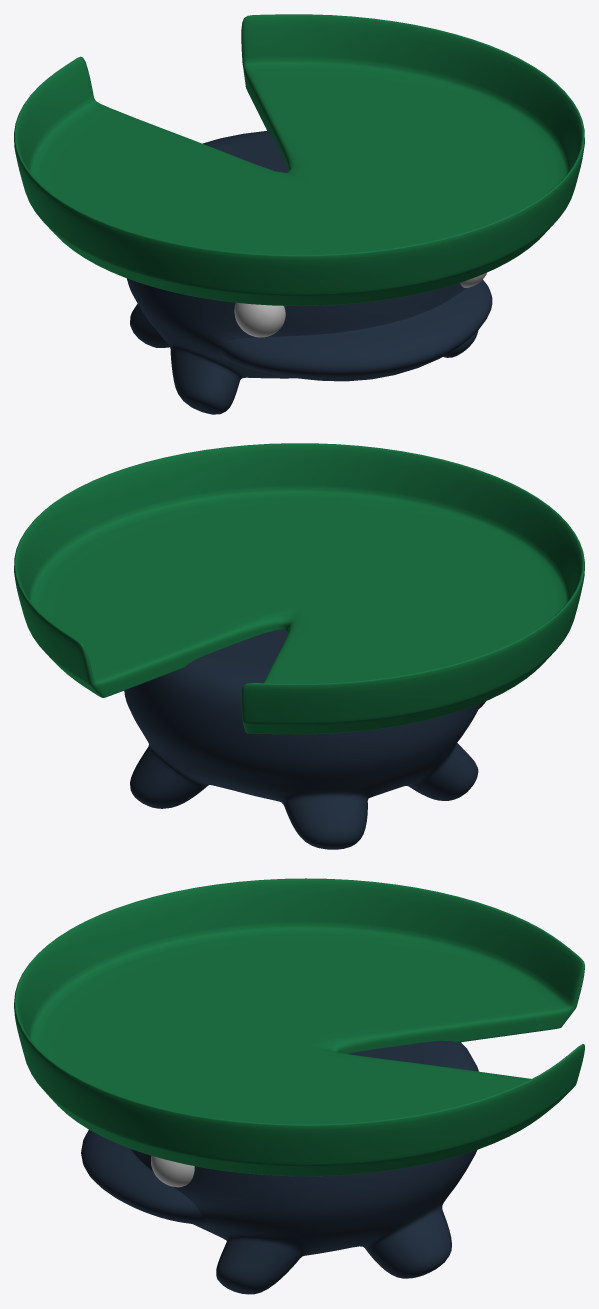
The model's file is lotad.dae.
3 views of the same model, one above another, from view 1: azimuth 30°, elevation 25°; view 2: azimuth 150°, elevation 25°; view 3: azimuth 270°, elevation 25° (orthographic). The views are drawn at different scales.
Parts seen in each view (by area): view 1: pCylinder1, pSphere1, pSphere3; view 2: pCylinder1, pSphere1; view 3: pCylinder1, pSphere1, pSphere2.
Part boxes in pixels (x1=…): pCylinder1: x1=14, y1=14, x2=584, y2=305; pSphere1: x1=127, y1=131, x2=492, y2=414; pSphere3: x1=234, y1=302, x2=285, y2=337; pCylinder1: x1=14, y1=443, x2=584, y2=734; pSphere1: x1=124, y1=629, x2=486, y2=849; pCylinder1: x1=14, y1=878, x2=584, y2=1176; pSphere1: x1=81, y1=1040, x2=478, y2=1294; pSphere2: x1=151, y1=1155, x2=194, y2=1187.
Size of the model in its own units: 3.07 by 1.35 by 3.01.
